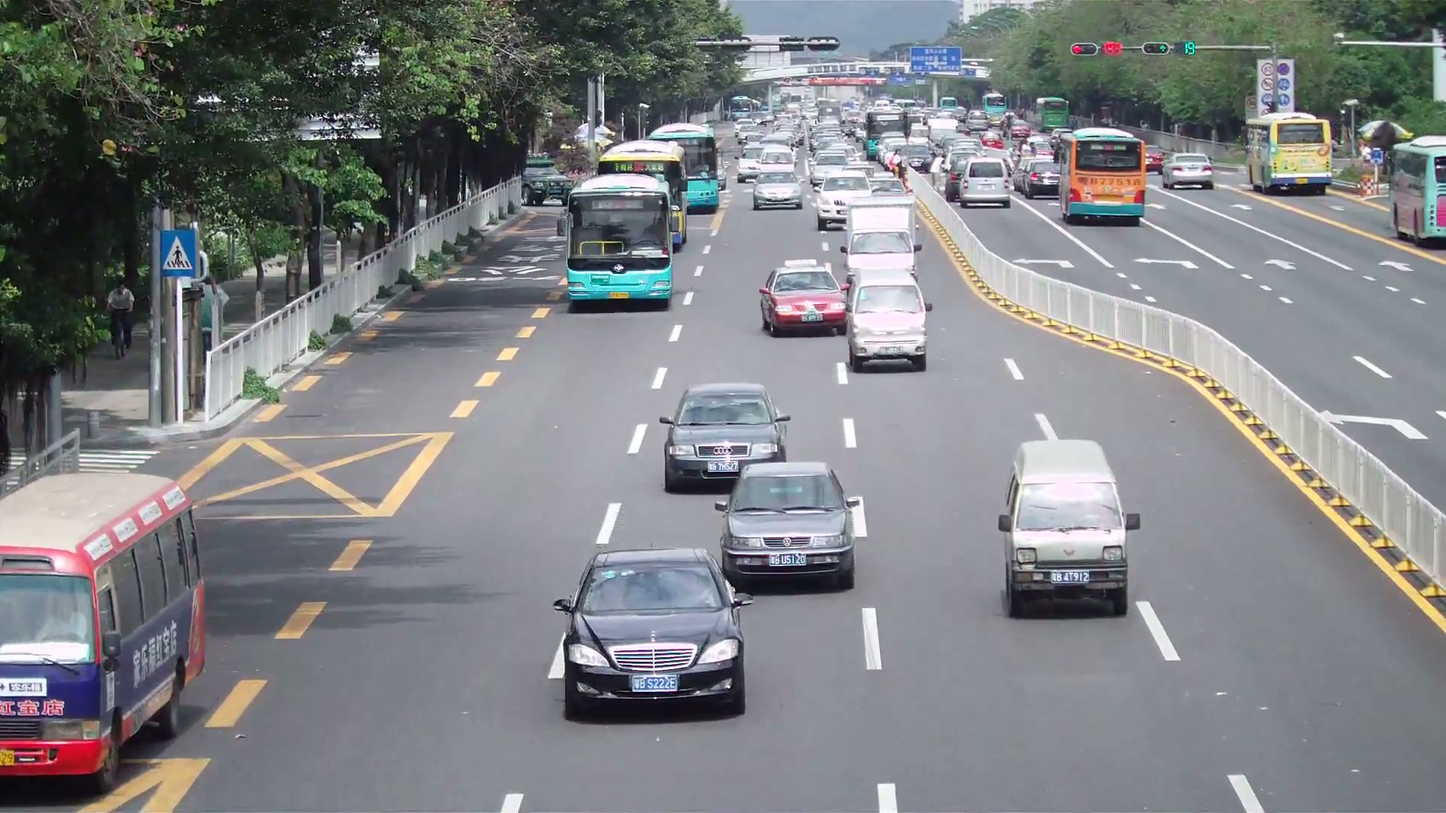bus: (0, 468, 207, 791), (564, 172, 675, 310), (599, 137, 688, 252), (1054, 127, 1147, 224), (1243, 112, 1334, 194), (1390, 135, 1445, 246), (651, 124, 720, 204)
car: (550, 547, 752, 721), (997, 438, 1139, 619), (715, 460, 862, 592), (658, 382, 793, 493), (846, 275, 931, 373), (758, 260, 849, 338), (815, 172, 875, 230), (955, 156, 1012, 209), (750, 171, 804, 210), (1162, 152, 1215, 191)
pedestrian: (107, 277, 136, 359)
truck: (1244, 112, 1333, 193)
